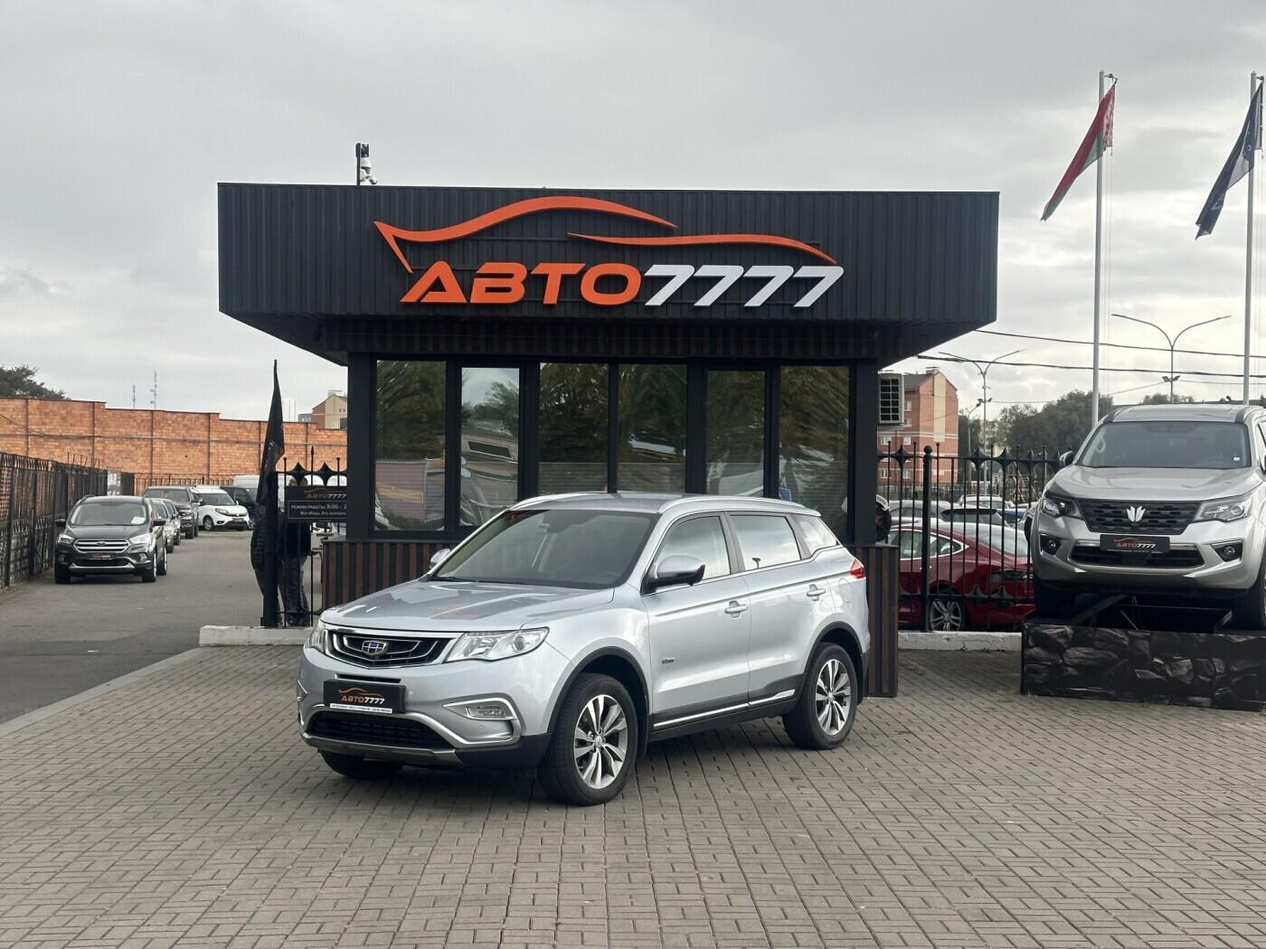Atlas_2016-2023: (296, 487, 875, 808)
